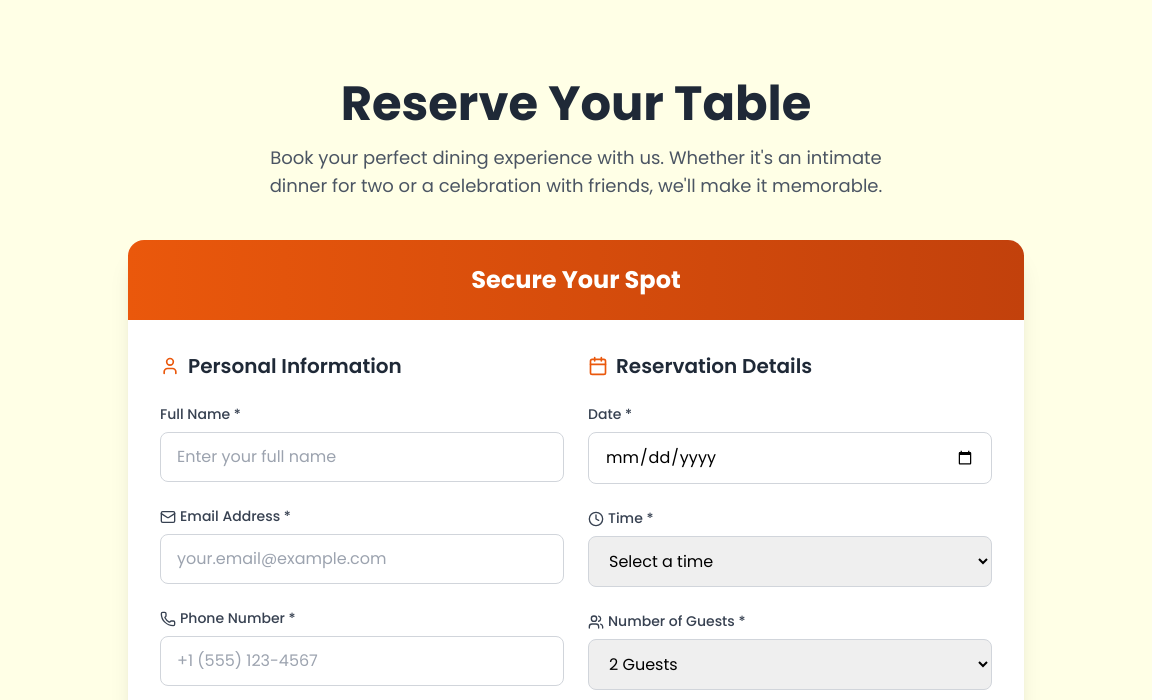
it: Reservation Component › Form Validation › validates email format when invalid email is provided
// Fill some fields but make email invalid
In the field with placeholder "Enter your full name": (362, 457) [160,432,564,482], type "John Doe"
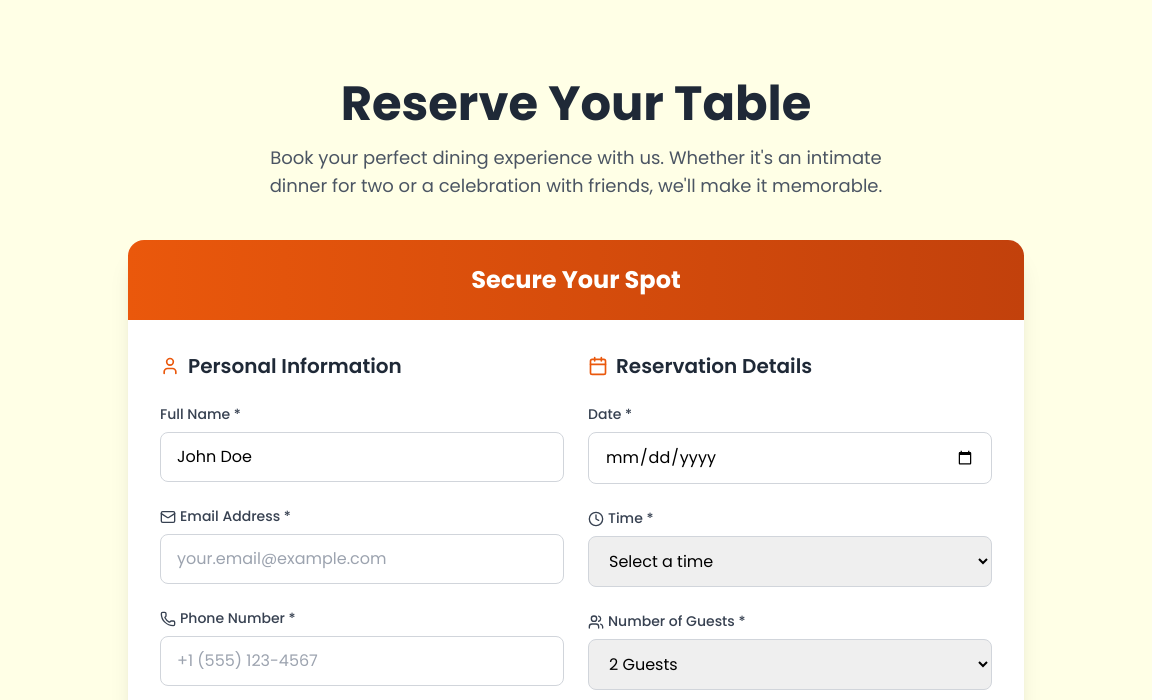
In the field with placeholder "+1 (555) 123-4567": (362, 661) [160,636,564,686], type "+1234567890"
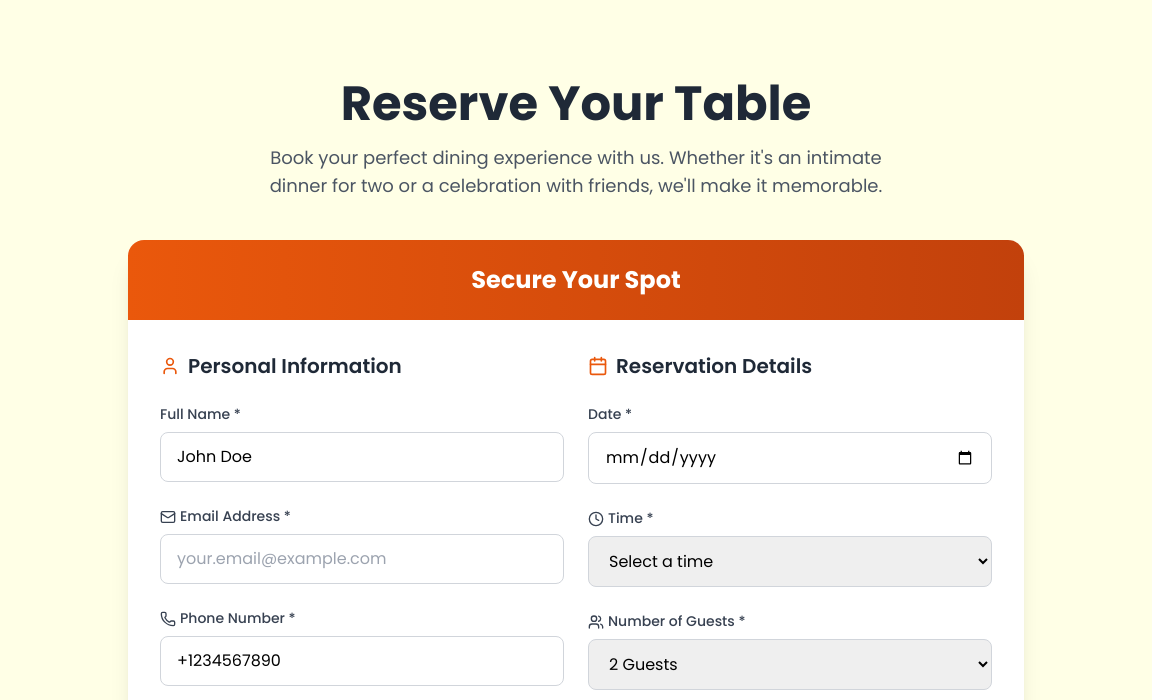
In the field with placeholder "your.email@example.com": (362, 559) [160,534,564,584], type "invalid-email"
(page scrolled)
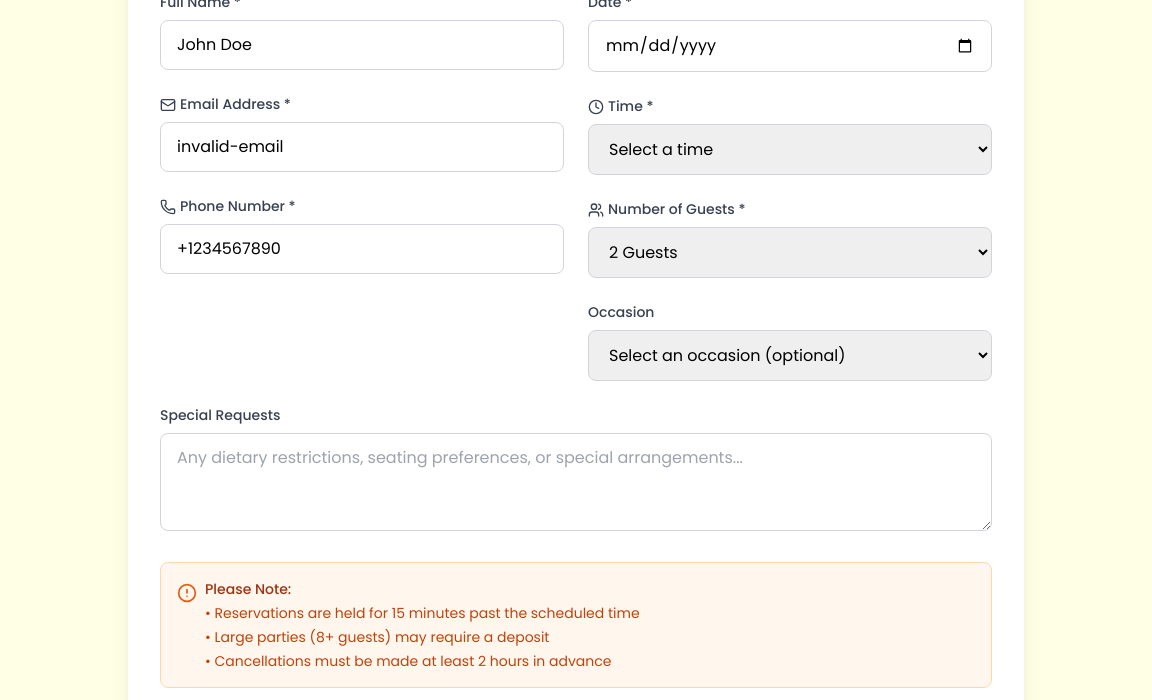
Submit the form
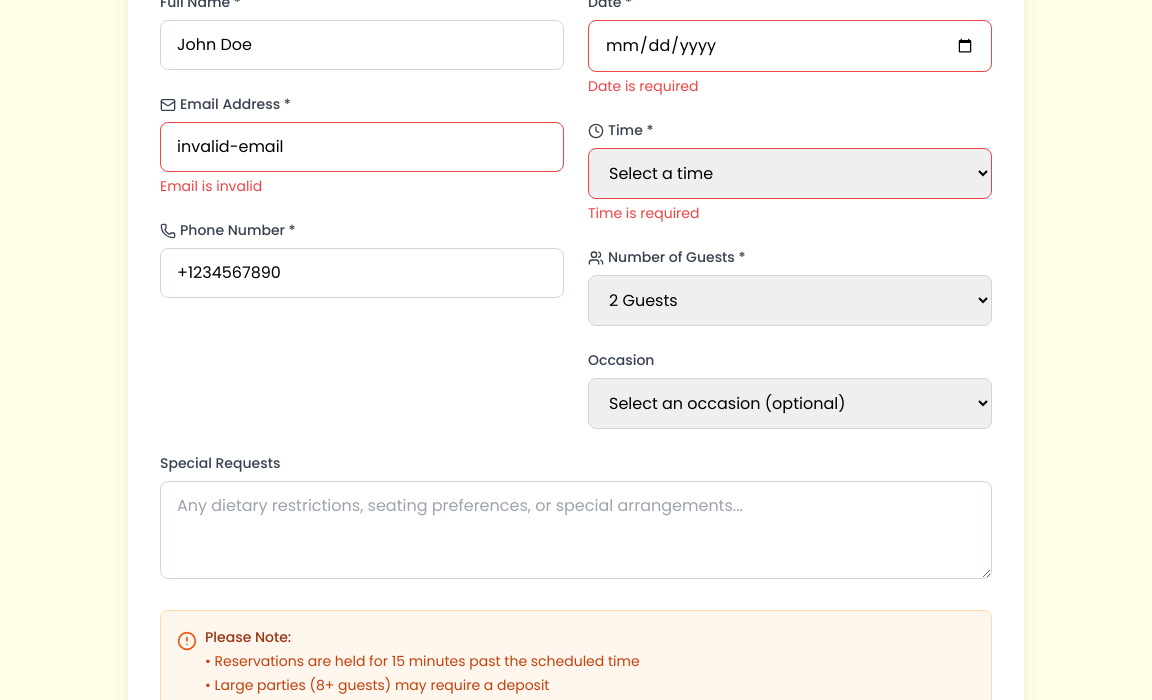
Check: the text "Email is invalid" is shown, box [160,176,262,196]
Check: the text "Date is required" is shown, box [588,76,698,96]
Check: the text "Time is required" is shown, box [588,203,700,223]
